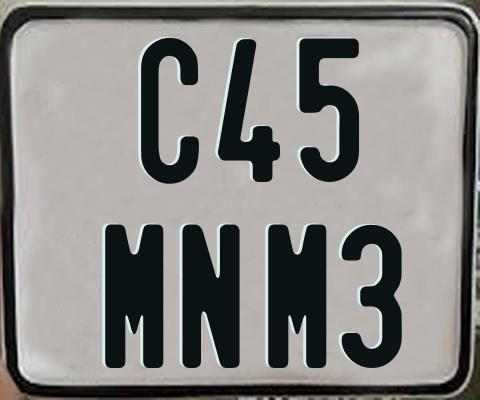3: (340, 222, 401, 368)
4: (218, 36, 282, 184)
5: (296, 36, 362, 183)
C: (141, 37, 202, 184)
M: (102, 223, 162, 369), (268, 221, 327, 369)
N: (182, 223, 246, 367)
